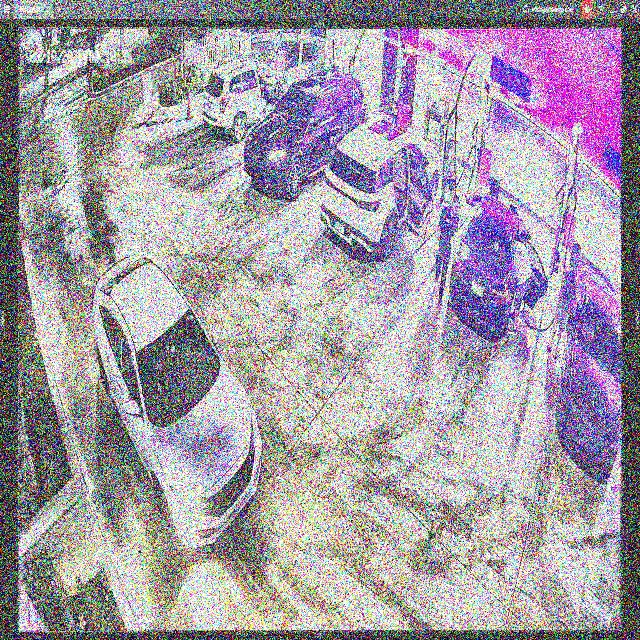Car: (93, 252, 263, 552), (320, 113, 438, 252), (246, 67, 367, 194), (449, 187, 544, 339)
